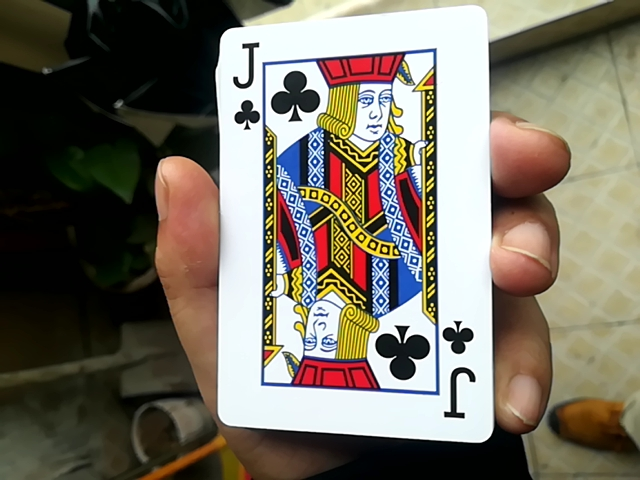mh j: (210, 0, 491, 434)
